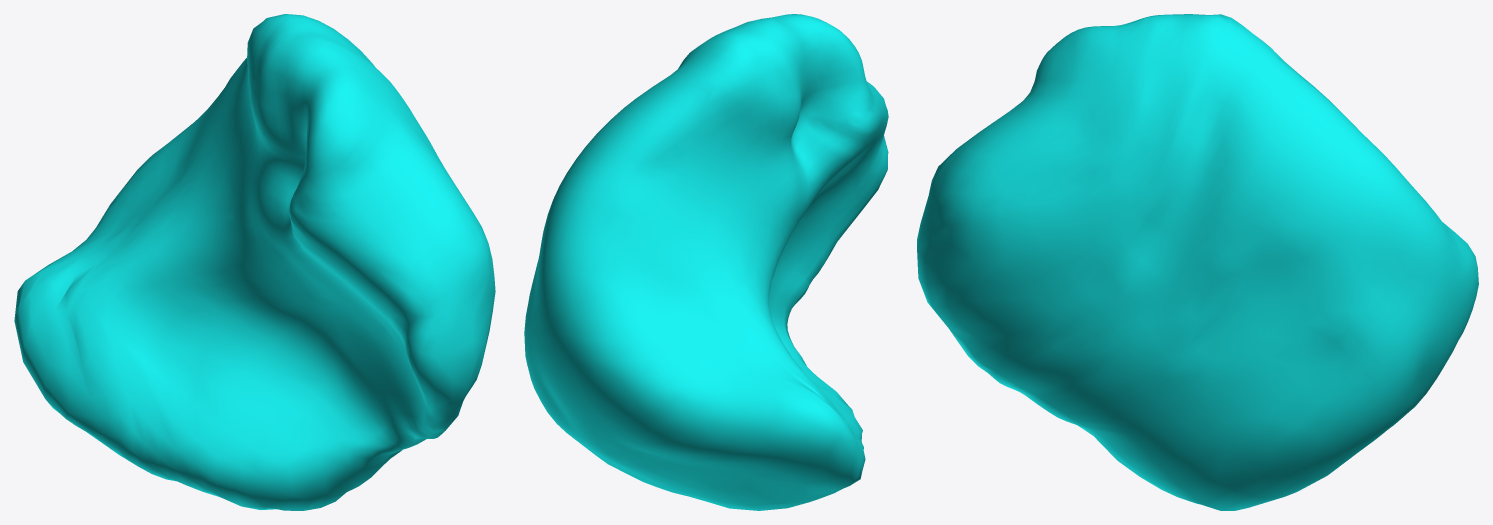
The model's file is Spleen.FBX.
3 views of the same model, side by side, from view 1: azimuth 30°, elevation 25°; view 2: azimuth 150°, elevation 25°; view 3: azimuth 270°, elevation 25° (orthographic). The views are drawn at different scales.
Visible parts, largest first — view 1: spleen-Snapshot; view 2: spleen-Snapshot; view 3: spleen-Snapshot.
Part boxes in pixels (<box>): spleen-Snapshot: <box>14,14,495,510</box>; spleen-Snapshot: <box>524,14,888,510</box>; spleen-Snapshot: <box>917,14,1478,510</box>.
Size of the model in its own units: 79.87 by 104 by 114.
